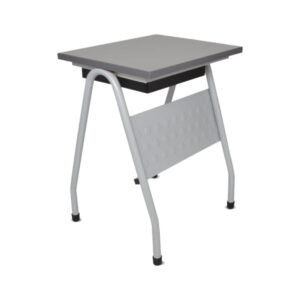m01: (58, 34, 244, 266)
